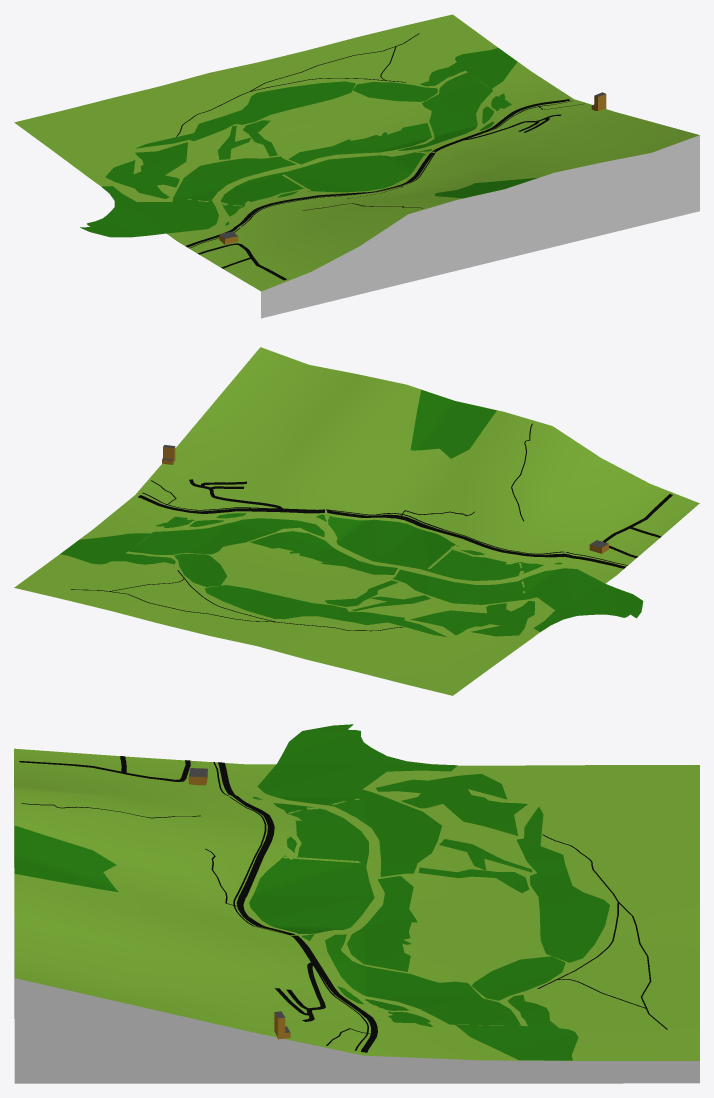
File: tile_11_00.glb
The picture shows the model from 3 angles, top to bottom: view 1: azimuth 30°, elevation 25°; view 2: azimuth 150°, elevation 25°; view 3: azimuth 270°, elevation 25°; orthographic projection. The views are drawn at different scales.
Parts seen in each view (by area): view 1: Terrain_11_00, Ub_small.osm_forest_11_00, Ub_small.osm_roads_primary_11_00, Ub_small.osm_paths_footway_11_00, Ub_small.osm_roads_residential_11_00; view 2: Terrain_11_00, Ub_small.osm_forest_11_00, Ub_small.osm_roads_primary_11_00, Ub_small.osm_roads_residential_11_00, Ub_small.osm_paths_footway_11_00, Ub_small.osm_paths_cycleway_11_00; view 3: Terrain_11_00, Ub_small.osm_forest_11_00, Ub_small.osm_roads_primary_11_00, Ub_small.osm_roads_residential_11_00, Ub_small.osm_paths_footway_11_00, Ub_small.osm_paths_cycleway_11_00, Ub_small.osm_buildings_11_00.
Part boxes in pixels (left/top/right/bottom): Terrain_11_00: left=14, top=14, right=699, bottom=318; Ub_small.osm_forest_11_00: left=80, top=48, right=538, bottom=237; Ub_small.osm_roads_primary_11_00: left=185, top=99, right=570, bottom=247; Ub_small.osm_paths_footway_11_00: left=176, top=33, right=584, bottom=210; Ub_small.osm_roads_residential_11_00: left=198, top=114, right=561, bottom=280; Terrain_11_00: left=14, top=347, right=699, bottom=695; Ub_small.osm_forest_11_00: left=60, top=390, right=643, bottom=637; Ub_small.osm_roads_primary_11_00: left=138, top=495, right=625, bottom=568; Ub_small.osm_roads_residential_11_00: left=189, top=479, right=672, bottom=557; Ub_small.osm_paths_footway_11_00: left=71, top=423, right=532, bottom=631; Ub_small.osm_paths_cycleway_11_00: left=142, top=492, right=627, bottom=565; Terrain_11_00: left=14, top=748, right=699, bottom=1083; Ub_small.osm_forest_11_00: left=14, top=724, right=609, bottom=1060; Ub_small.osm_roads_primary_11_00: left=218, top=762, right=377, bottom=1052; Ub_small.osm_roads_residential_11_00: left=19, top=756, right=325, bottom=1021; Ub_small.osm_paths_footway_11_00: left=21, top=803, right=667, bottom=1045; Ub_small.osm_paths_cycleway_11_00: left=213, top=762, right=368, bottom=1050; Ub_small.osm_buildings_11_00: left=188, top=768, right=290, bottom=1039.
Bounding box in the file's own units: 1064 × 155 × 912.
